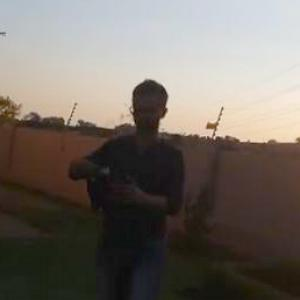follow: (62, 68, 192, 299)
